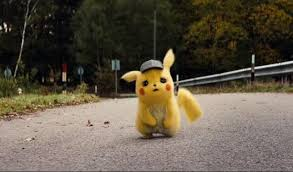pikachu: (114, 48, 203, 141)
